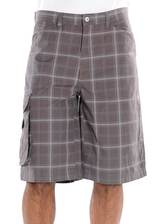clothoes: (21, 9, 149, 185)
